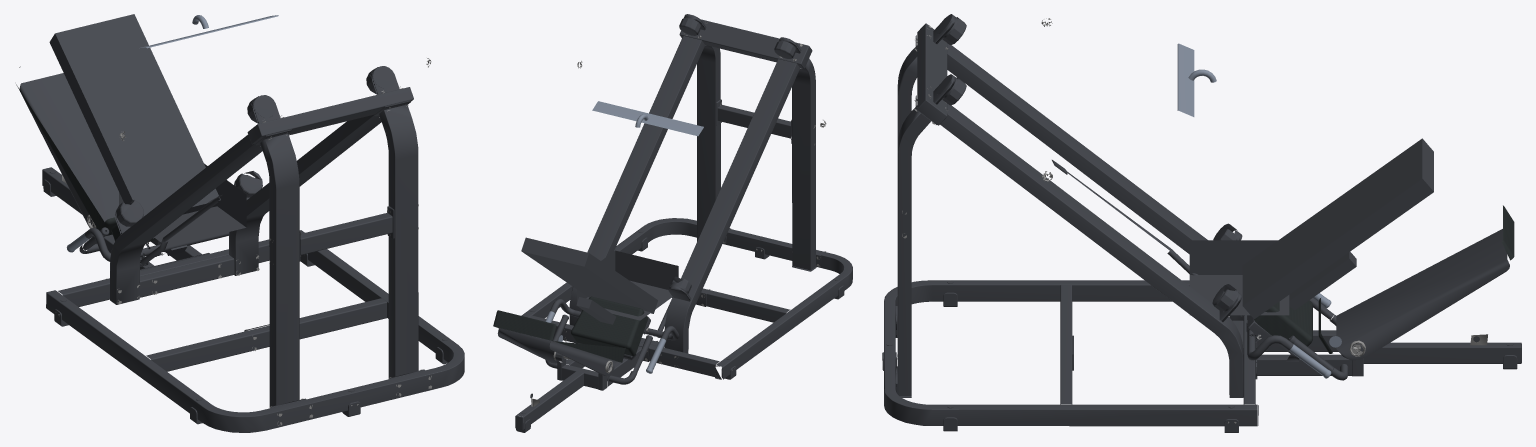
File: leg-press-frame-grok.glb
3 renders of one model, left to right at view 1: azimuth 30°, elevation 25°; view 2: azimuth 150°, elevation 25°; view 3: azimuth 270°, elevation 25°, orthographic. The views are drawn at different scales.
Visible parts, largest first — view 1: Mesh_0; view 2: Mesh_0; view 3: Mesh_0.
Boxes of the visible parts, x1,y1,x2,y2 form: Mesh_0: [16, 14, 464, 432]; Mesh_0: [493, 14, 852, 432]; Mesh_0: [882, 14, 1521, 432].
Size of the model in its own units: 1.56 by 1.5 by 2.69.
Materials: 4 (1 with a texture image).
